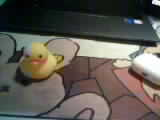duck: (19, 40, 57, 80)
